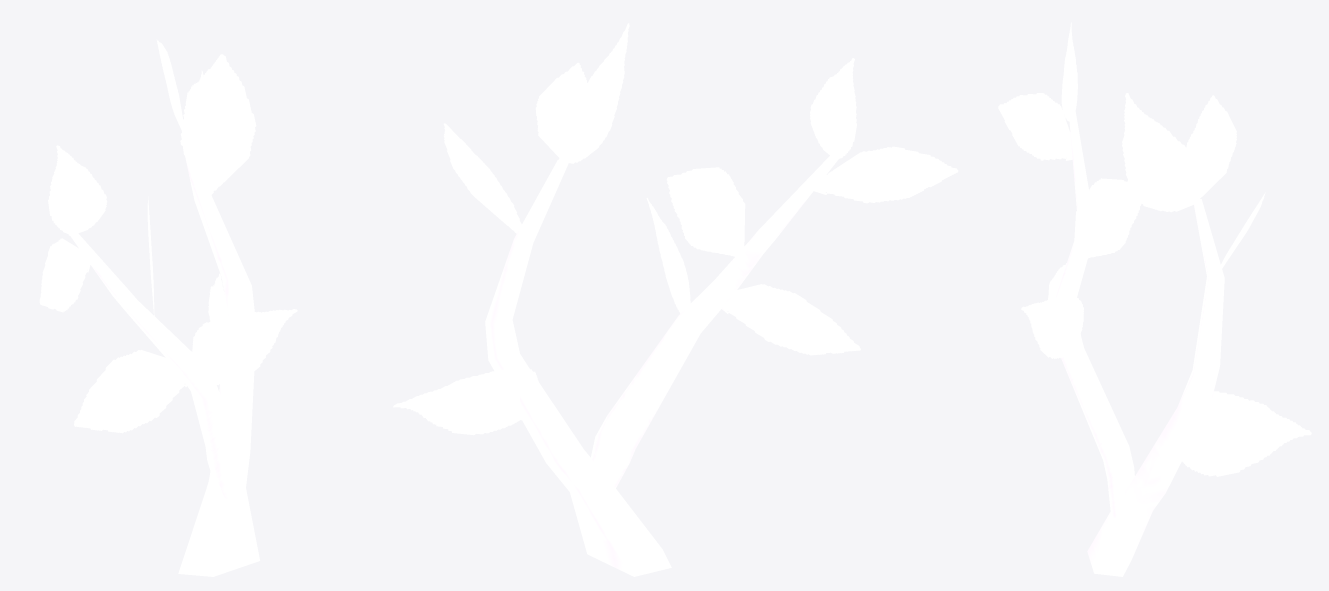
3 views of the same model, side by side, from view 1: azimuth 30°, elevation 25°; view 2: azimuth 150°, elevation 25°; view 3: azimuth 270°, elevation 25° (orthographic). The views are drawn at different scales.
Parts seen in each view (by area): view 1: SM_Dwellberry_Bush_01v2_LOD0; view 2: SM_Dwellberry_Bush_01v2_LOD0; view 3: SM_Dwellberry_Bush_01v2_LOD0.
Boxes of the visible parts, box(x1,y1,x2,y2) form: SM_Dwellberry_Bush_01v2_LOD0: box(39, 39, 297, 576); SM_Dwellberry_Bush_01v2_LOD0: box(393, 23, 958, 576); SM_Dwellberry_Bush_01v2_LOD0: box(998, 22, 1311, 576).
Size of the model in its own units: 0.4994 by 0.6532 by 0.3898.
Materials: 1 (1 with a texture image).
